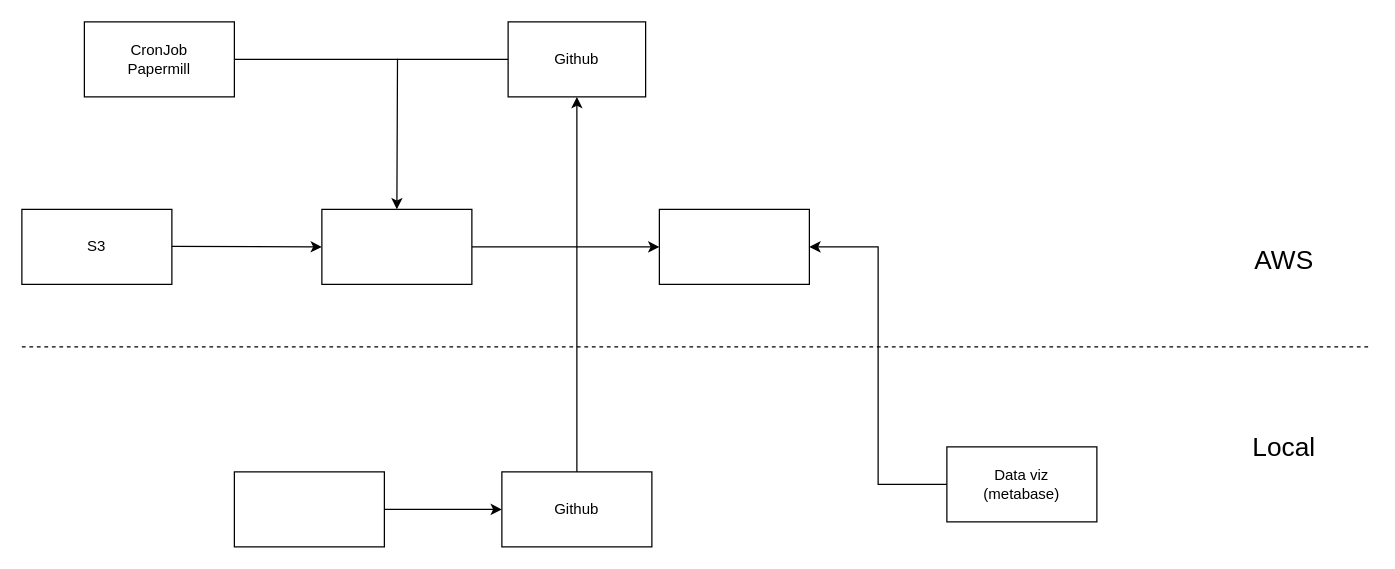
The diagram is 1395 pixels wide and 569 high, and some of its shapes have lost their labels. Each missing label, with the centre of its shape:
EC2 (Jupyter notebok): (x=396, y=246)
Jupyter Notebook (Deploy): (x=308, y=509)
RDS Banco de dados (Postgres): (x=733, y=246)
